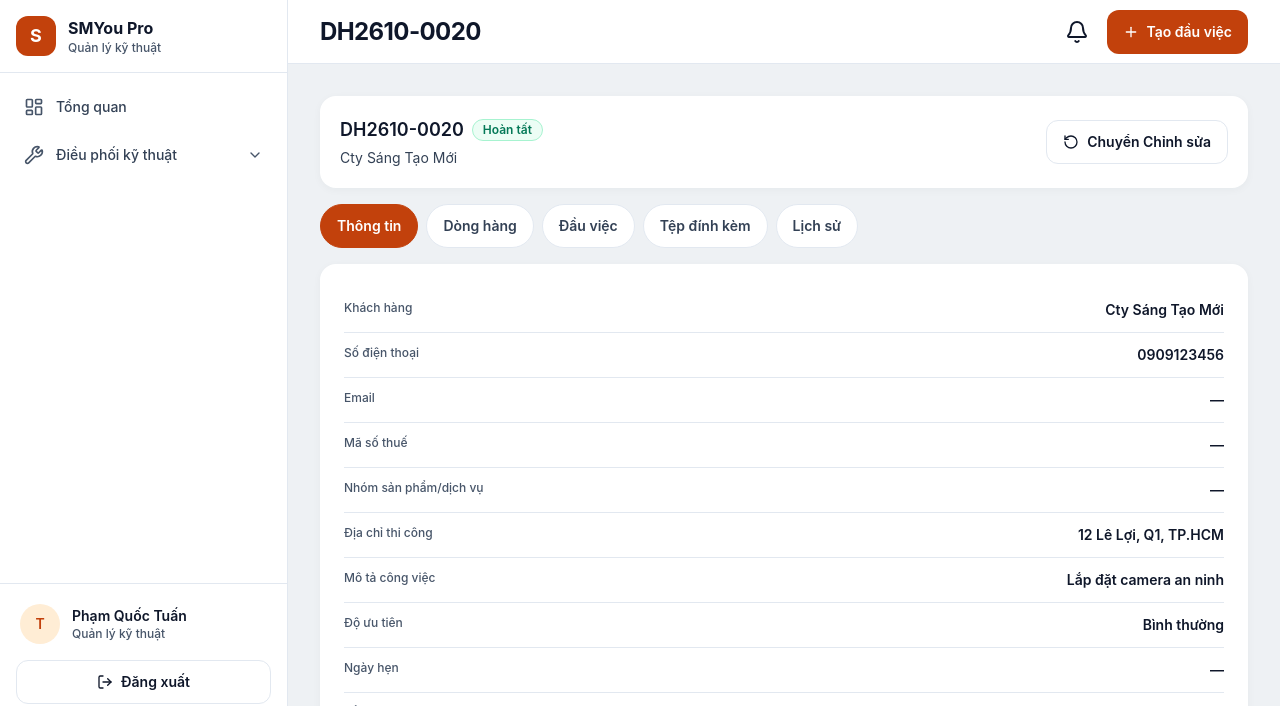
Test: Chuyển Chỉnh sửa (M6-03b) › AC-ORD-154 thành công → badge 'Đơn cần chỉnh sửa' trên menu cập nhật (invalidate /me)
Expected: the heading "DH2610-0020" is shown, [320,16,481,48]
Click the button "Điều phối kỹ thuật" at {"x": 144, "y": 155}, box [12,133,275,177]
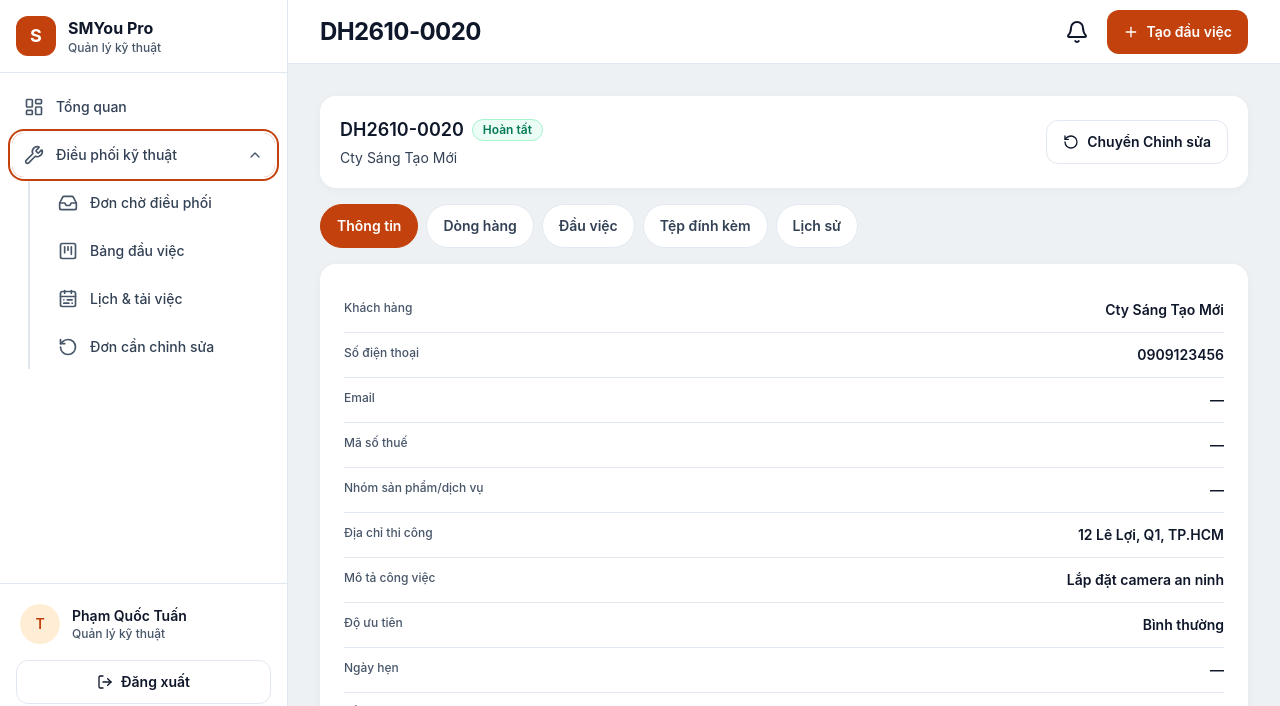
Click the button "Chuyển Chỉnh sửa" at {"x": 1137, "y": 142}, box [1046,120,1228,164]
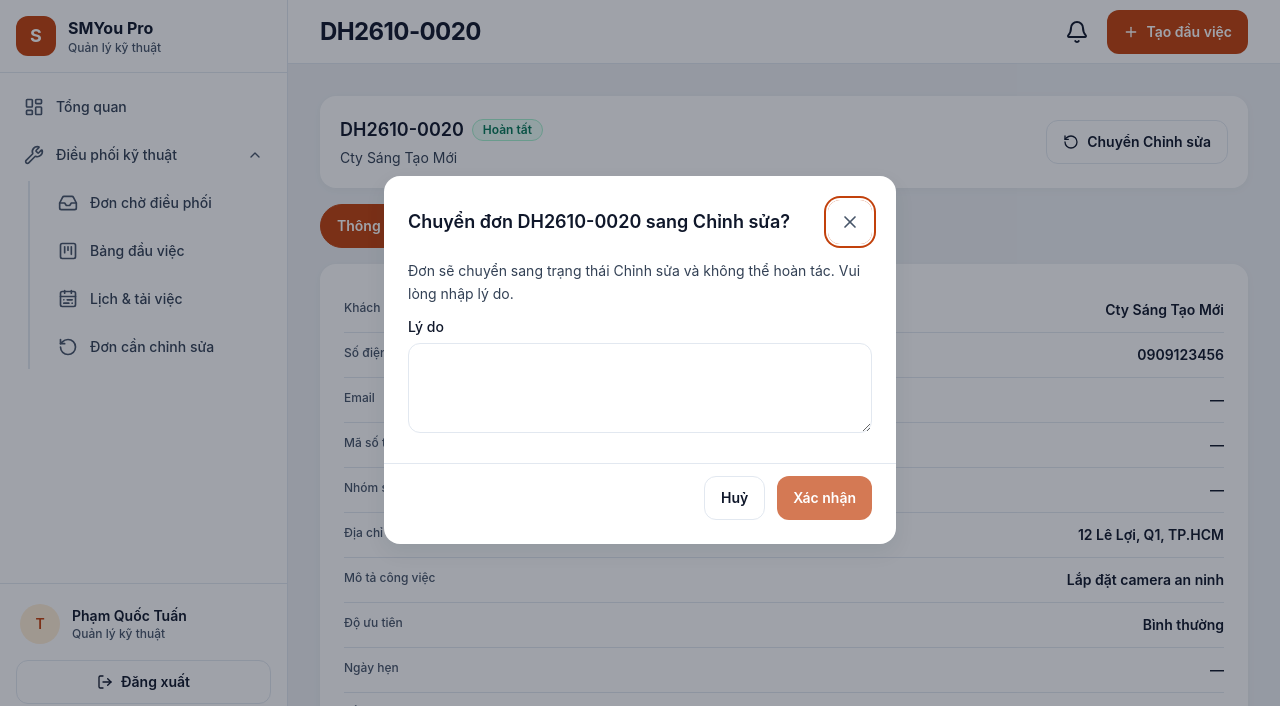
Type "Camera tầng 2 lắp sai vị trí, khách yêu cầu chỉnh" into the text box labelled "Lý do" at {"x": 640, "y": 388}, box [408,343,872,433]
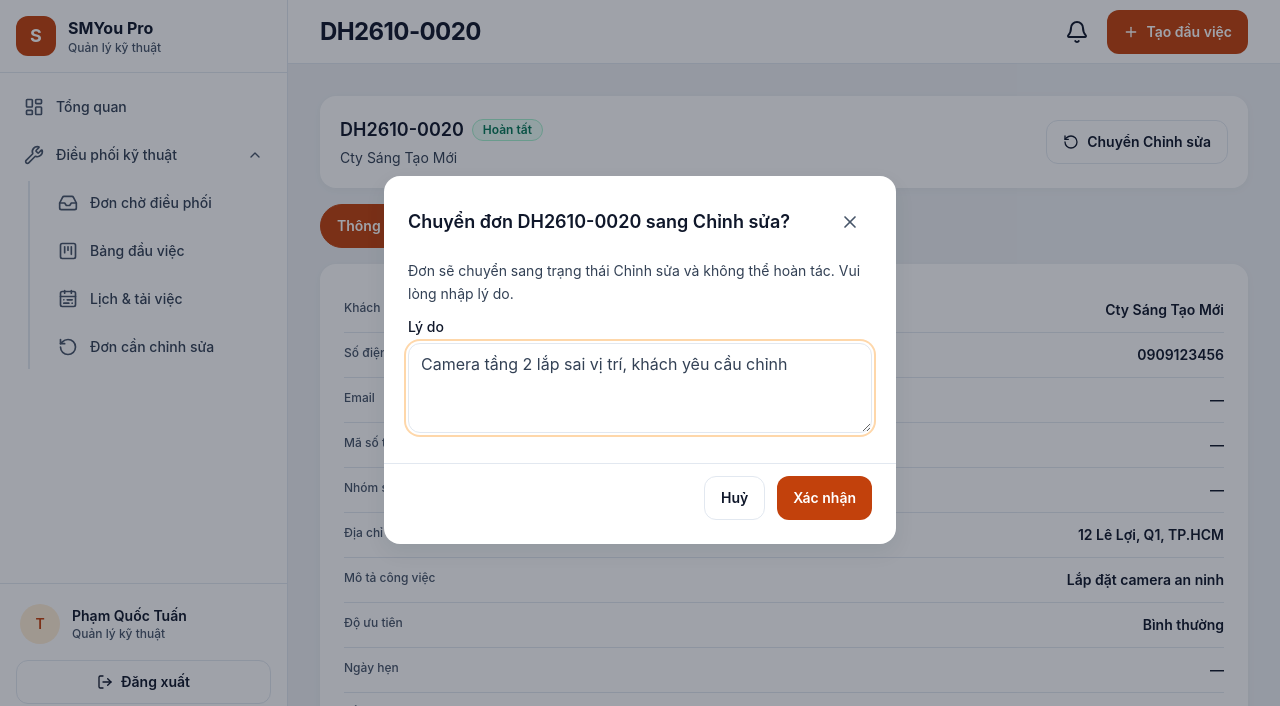
Click the button "Xác nhận" at {"x": 825, "y": 498}, box [777,476,872,520]
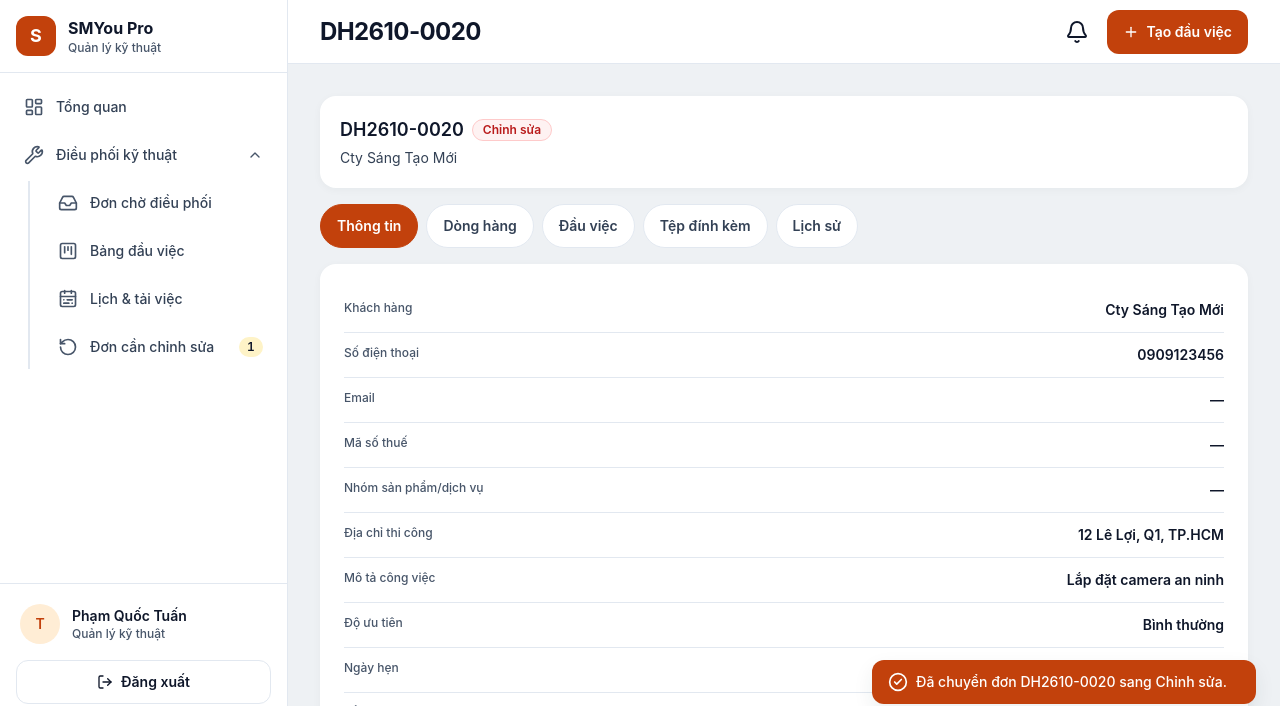
Expected: the picture "1" is shown, [239,337,263,357]
